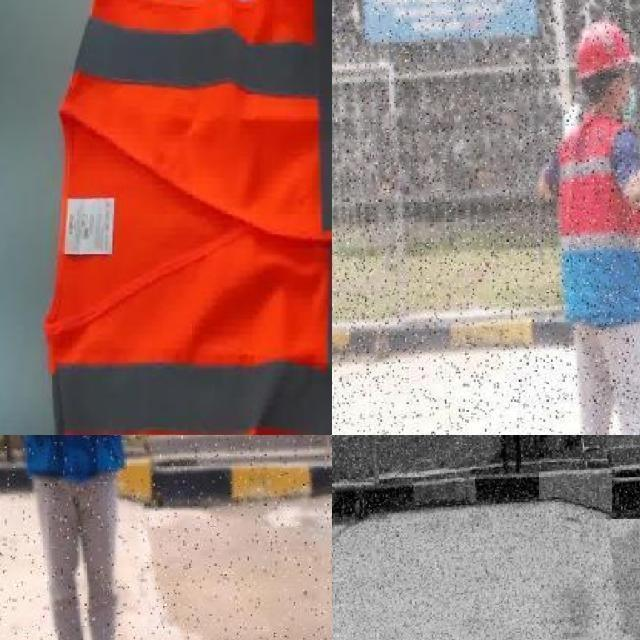apron: (562, 99, 582, 145)
